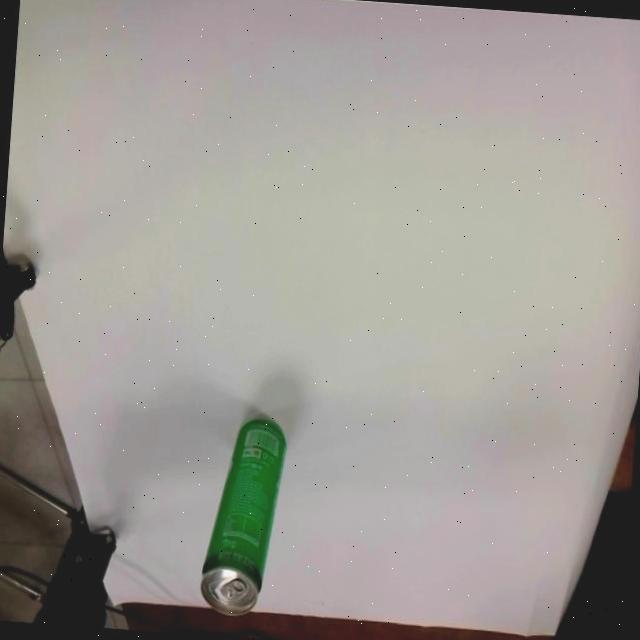debris: (197, 413, 288, 618)
